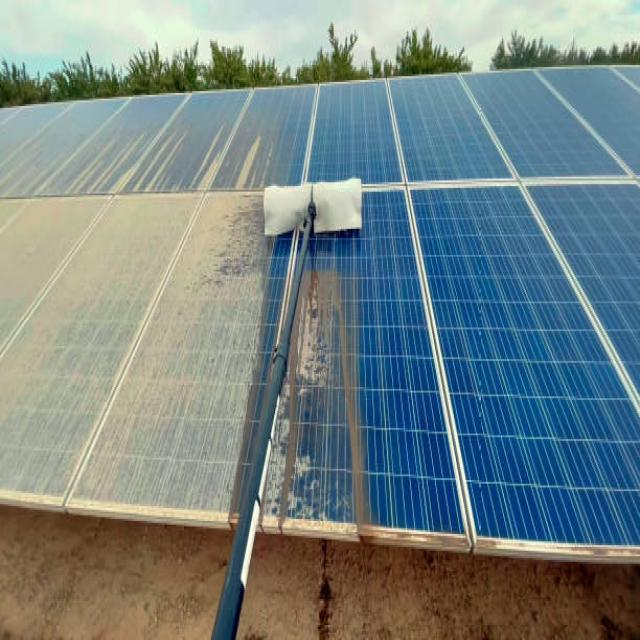dust-solar-panel: (0, 86, 321, 523)
